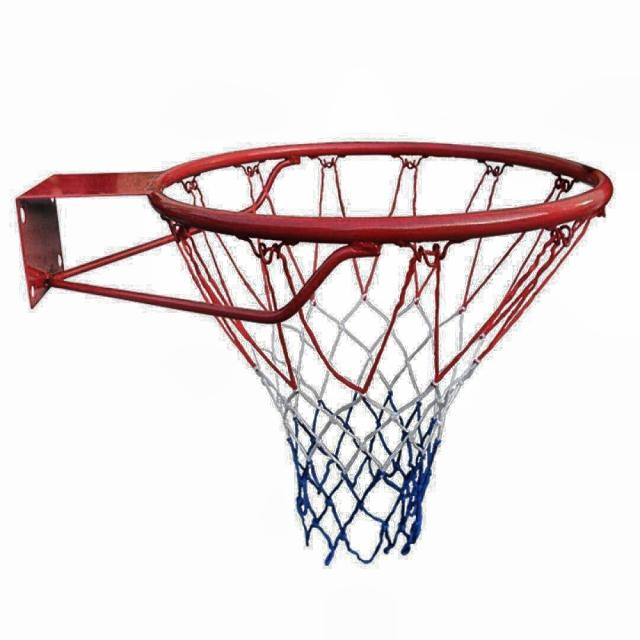rim: (149, 139, 612, 566)
